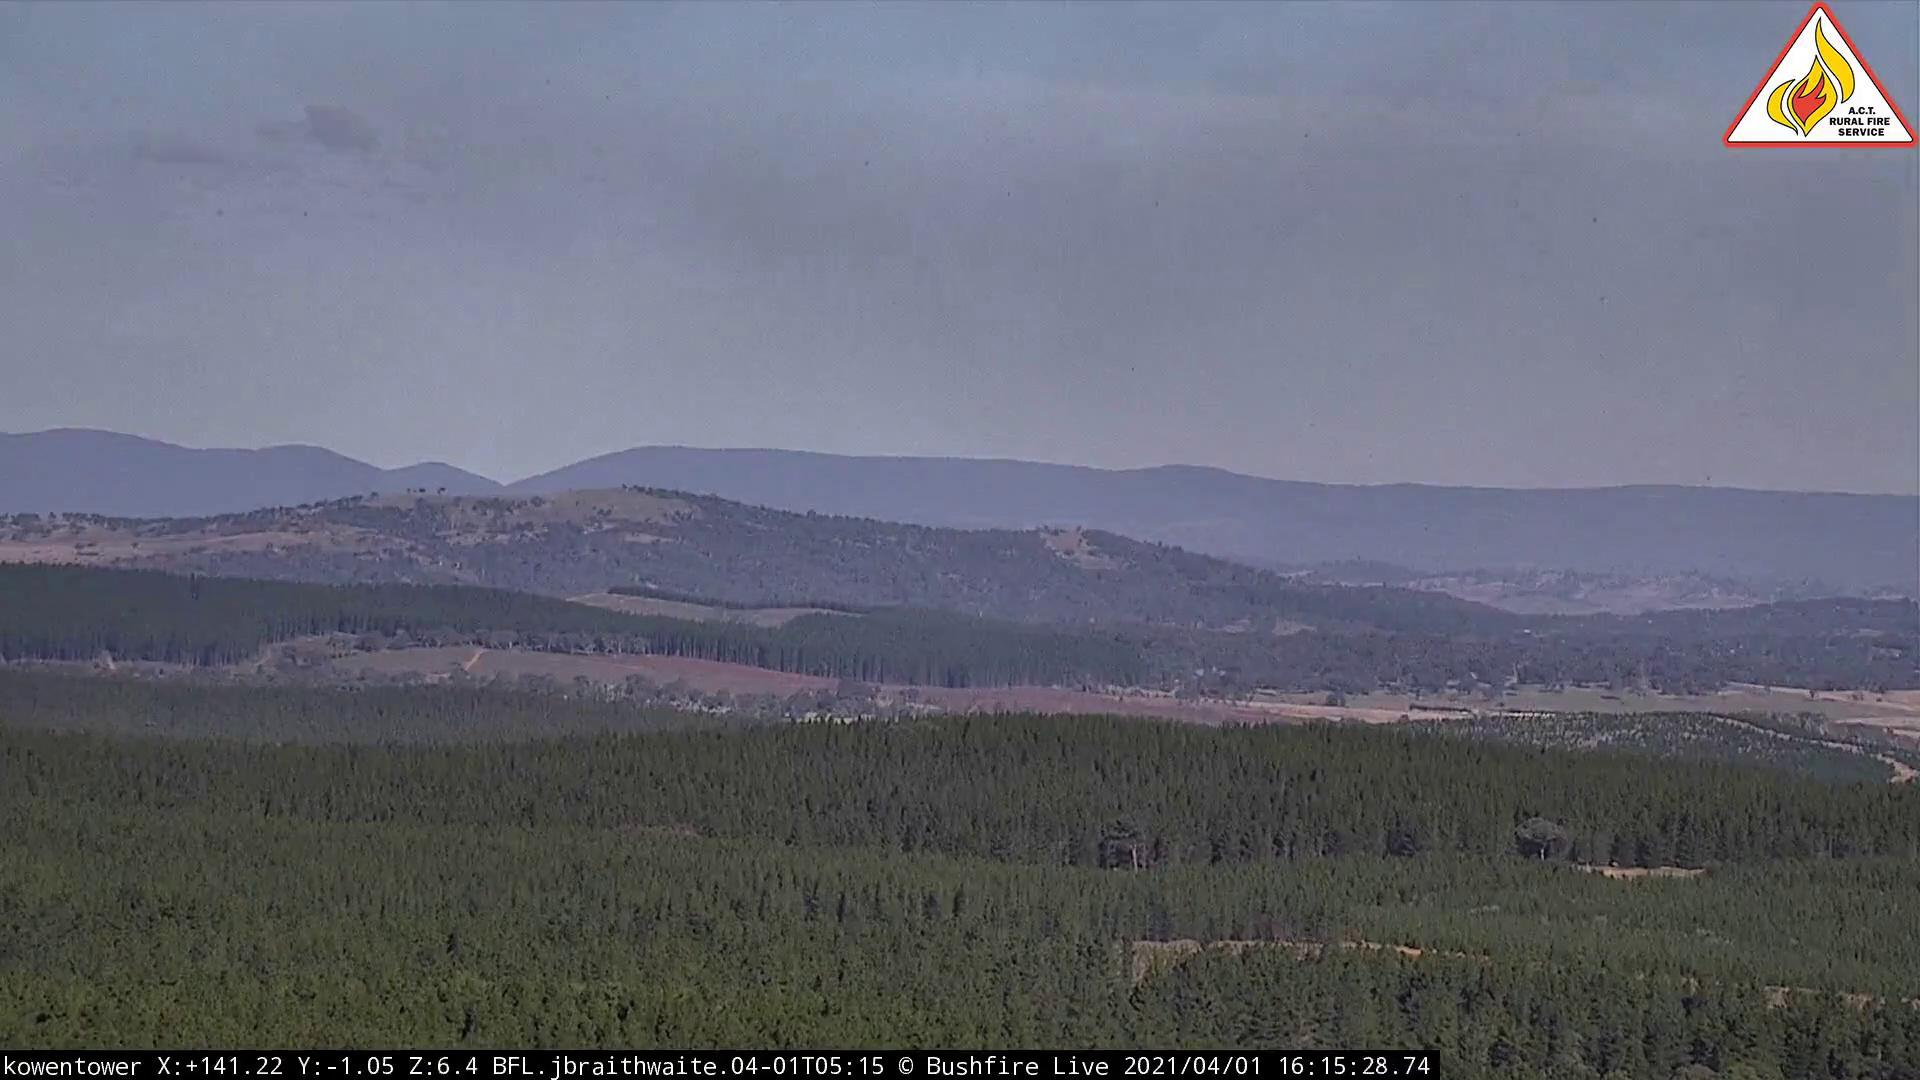Smoke: (53, 3, 1720, 430)
